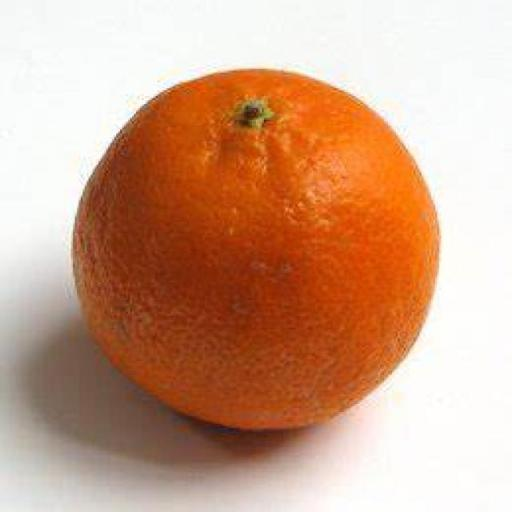fruit: (74, 71, 438, 428)
